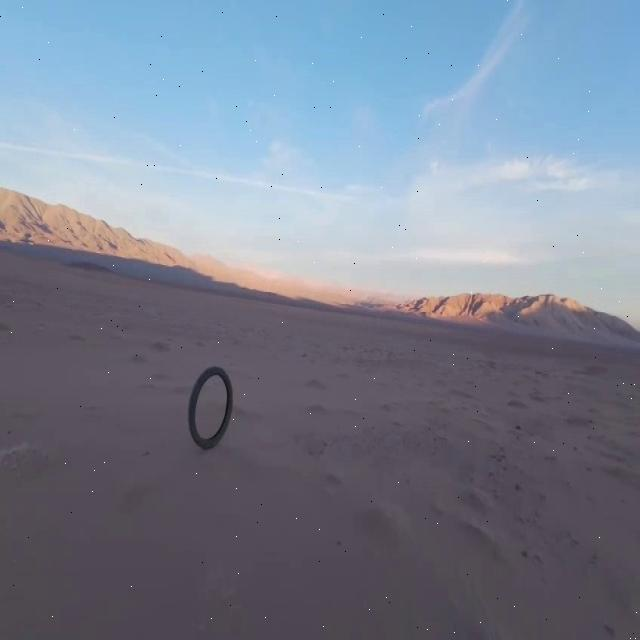Tire: (189, 366, 232, 449)
